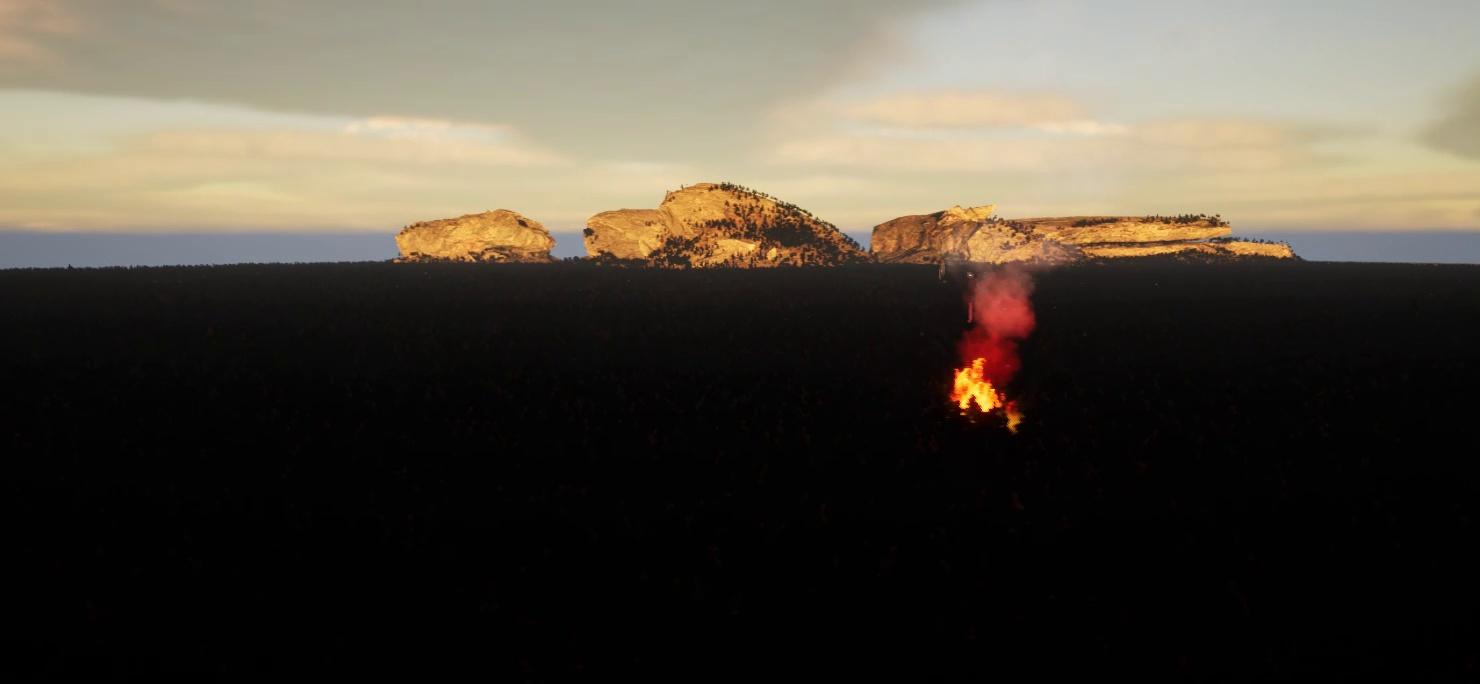fire: (941, 357, 1026, 434)
smoke: (967, 257, 1026, 368)
